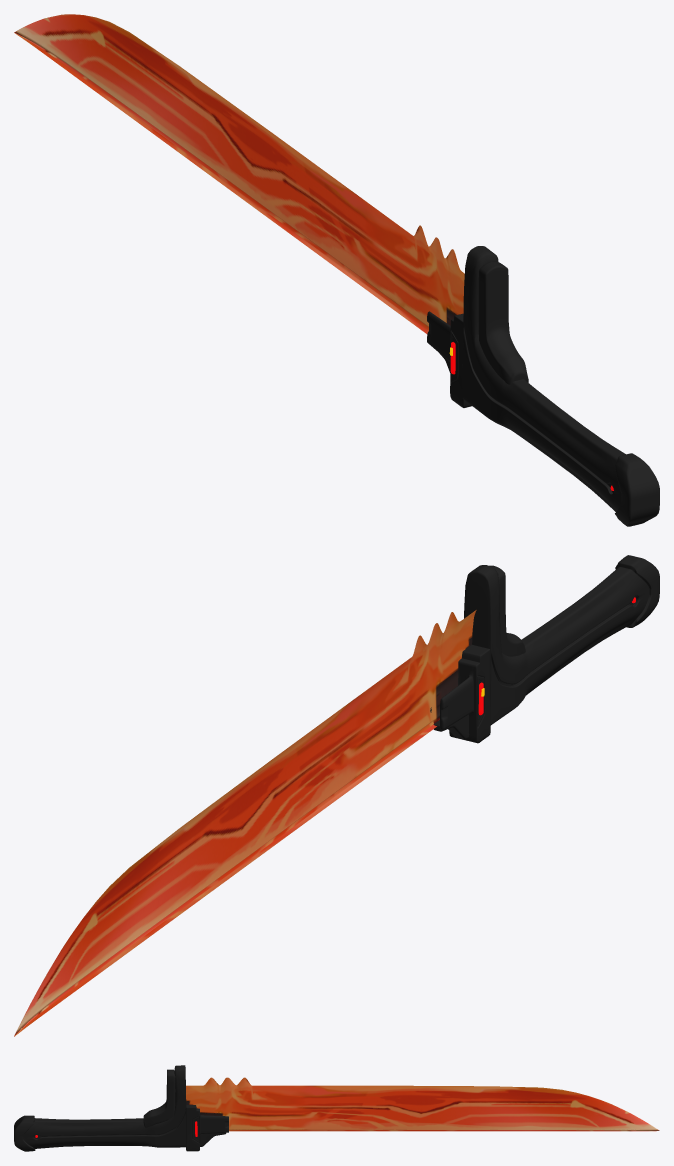
Rendered from blade.glb.
The picture shows the model from 3 angles, top to bottom: view 1: azimuth 30°, elevation 25°; view 2: azimuth 150°, elevation 25°; view 3: azimuth 270°, elevation 25°; orthographic projection. The views are drawn at different scales.
Visible parts, largest first — view 1: Cube.001; view 2: Cube.001; view 3: Cube.001.
Part boxes in pixels (bbox=[...]): Cube.001: bbox=[14, 14, 659, 526]; Cube.001: bbox=[14, 555, 659, 1036]; Cube.001: bbox=[14, 1065, 659, 1151].
Size of the model in its own units: 0.3747 by 1.79 by 12.49.
Materials: 4 (1 with a texture image).
